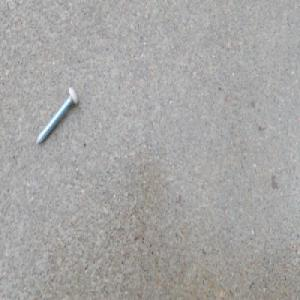Nail: (35, 86, 79, 147)
